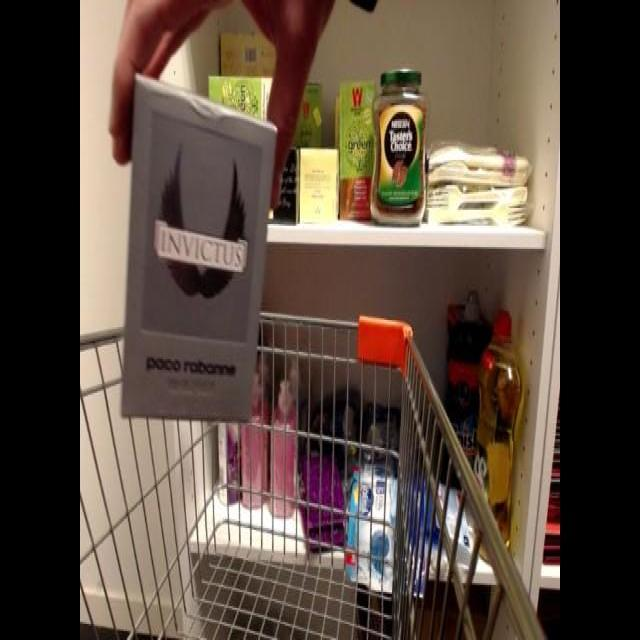Paco Rabanne: (116, 76, 286, 431)
